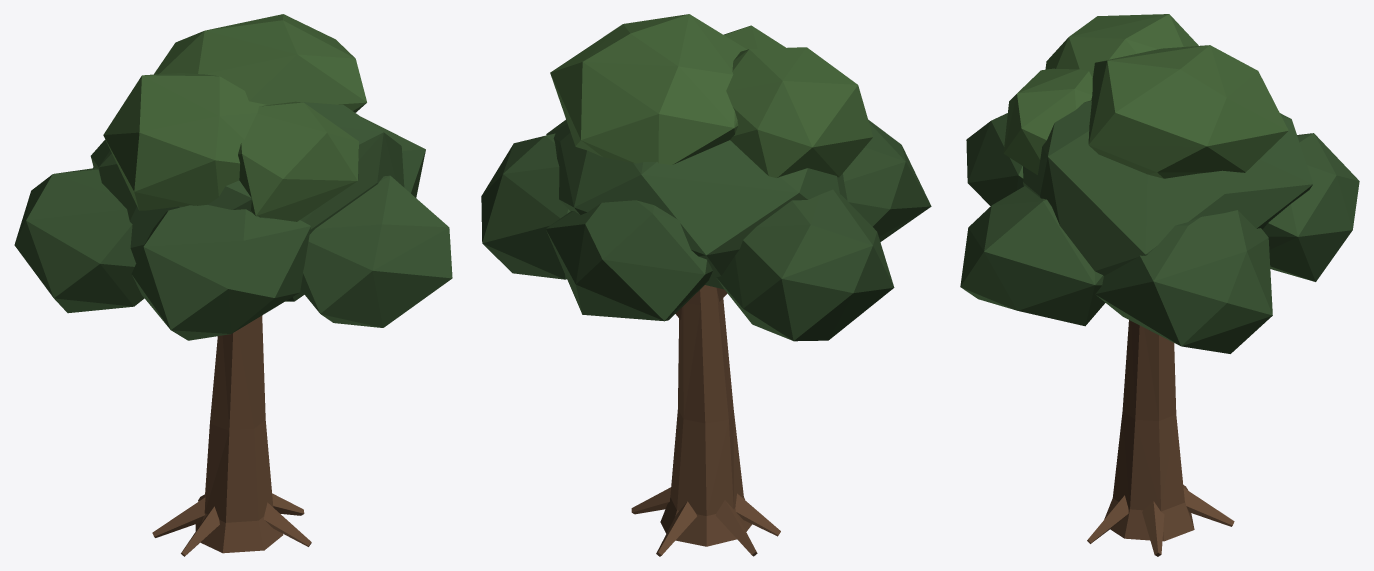
Rendered from Tree_Round.fbx.
The picture shows the model from 3 angles, left to right: view 1: azimuth 30°, elevation 25°; view 2: azimuth 150°, elevation 25°; view 3: azimuth 270°, elevation 25°; orthographic projection.
Parts seen in each view (by area): view 1: Leaves, Leaves2, Trunk; view 2: Leaves, Leaves2, Trunk; view 3: Leaves, Leaves2, Trunk.
Part boxes in pixels (bbox=[...]): Leaves: bbox=[14, 102, 452, 340]; Leaves2: bbox=[103, 14, 366, 221]; Trunk: bbox=[152, 315, 311, 556]; Leaves: bbox=[481, 119, 931, 341]; Leaves2: bbox=[550, 14, 872, 178]; Trunk: bbox=[631, 285, 780, 556]; Leaves: bbox=[960, 100, 1359, 353]; Leaves2: bbox=[1003, 14, 1288, 178]; Trunk: bbox=[1087, 320, 1234, 556].
Bounding box in the file's own units: 10.24 × 12.51 × 9.35.
